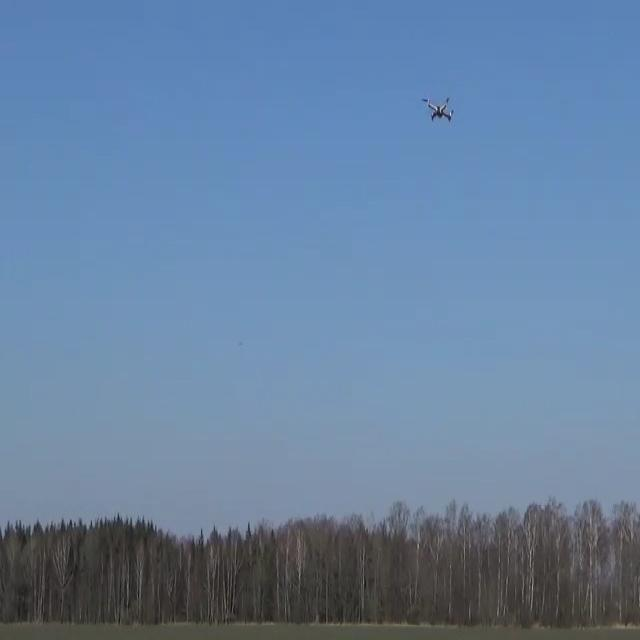drone: (421, 95, 453, 121)
